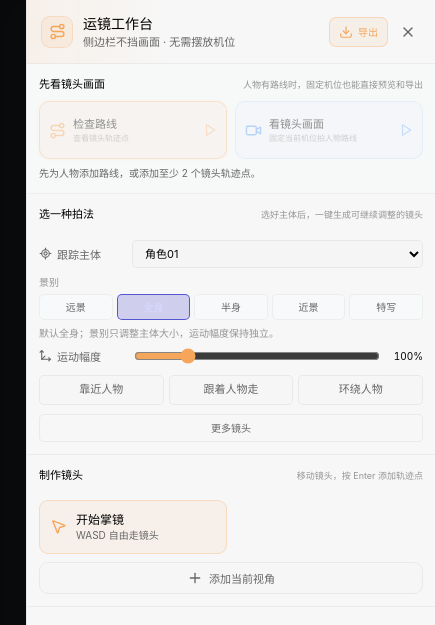
Test: updates a community preset route immediately while its range slider moves
The width and height of the screenshot is (435, 625).
Click the button "更多镜头": (231, 428) [39,414,423,442]
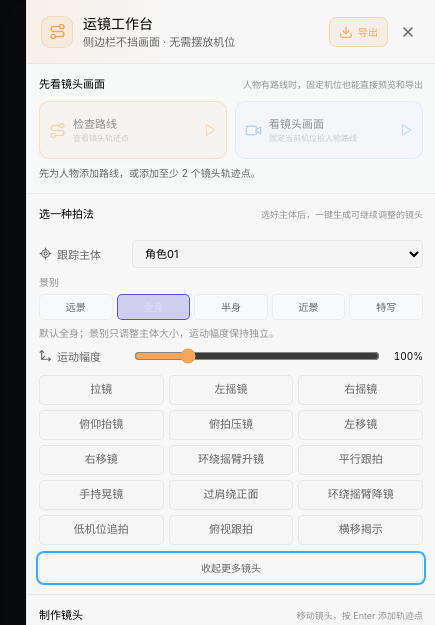
Click the button with aria-label "套用平行跟拍镜头预设": (361, 460) [298,444,423,474]
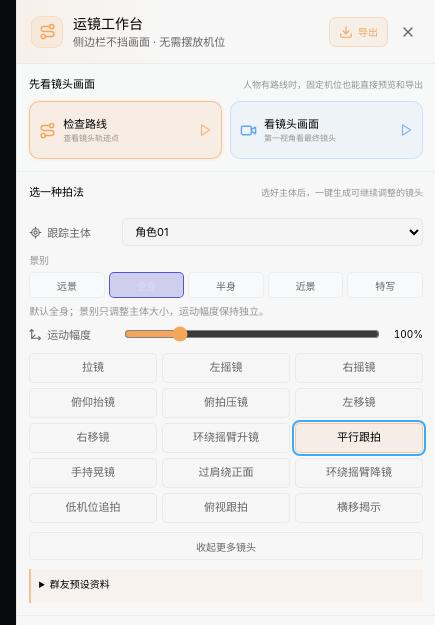
Set the slider named "镜头预设运动幅度" to "2.5": (324, 334) [124,326,380,342]
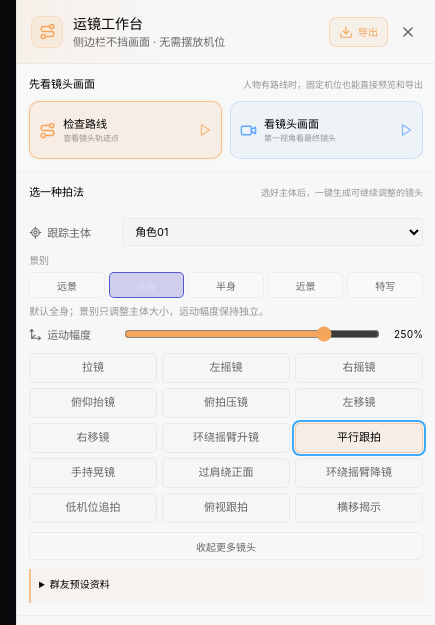
Check: the text "250%" is shown, box [394,328,423,340]
